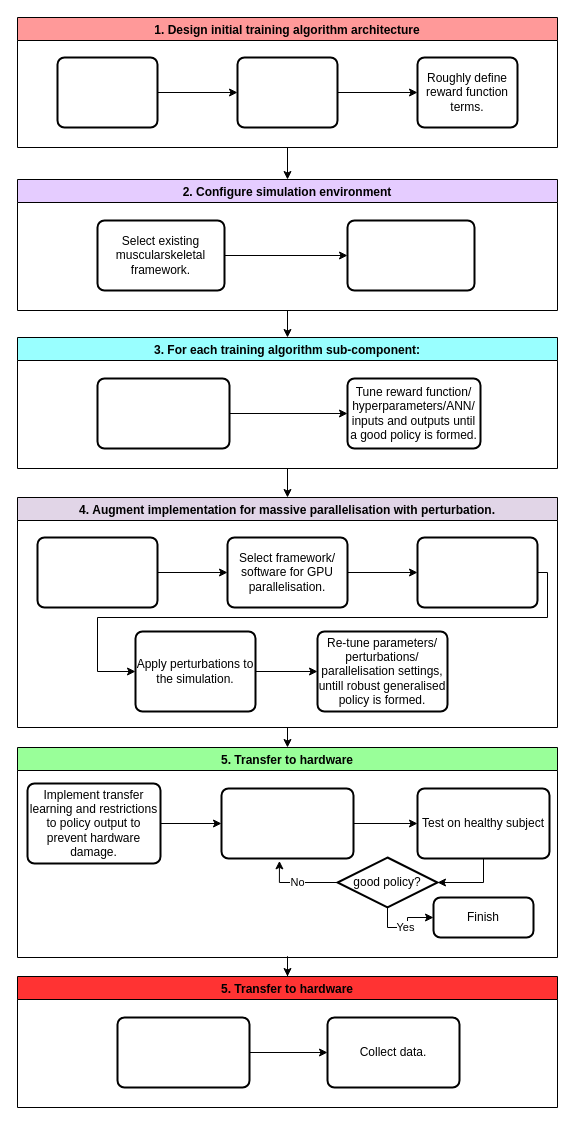
This 575x1125 diagram has some shape labels left out. Each missing label, with the centre of its shape:
Create abnormal gait patient simulation for gait correction training.: the point at 410,255
Create hundreds of different patient instances.: the point at 97,572
Define inputs and outputs (define simulation interaction).: the point at 107,92
Define sub-components (if any).: the point at 287,92
Integrate simulation with parallelisation software, using patient instances.: the point at 477,572
Integrate sub-component with simulation for training.: the point at 163,413
Test on impaired patients.: the point at 183,1052
Tune parameters, perturbation, parallelisation settings, and transfer learning.: the point at 287,823
